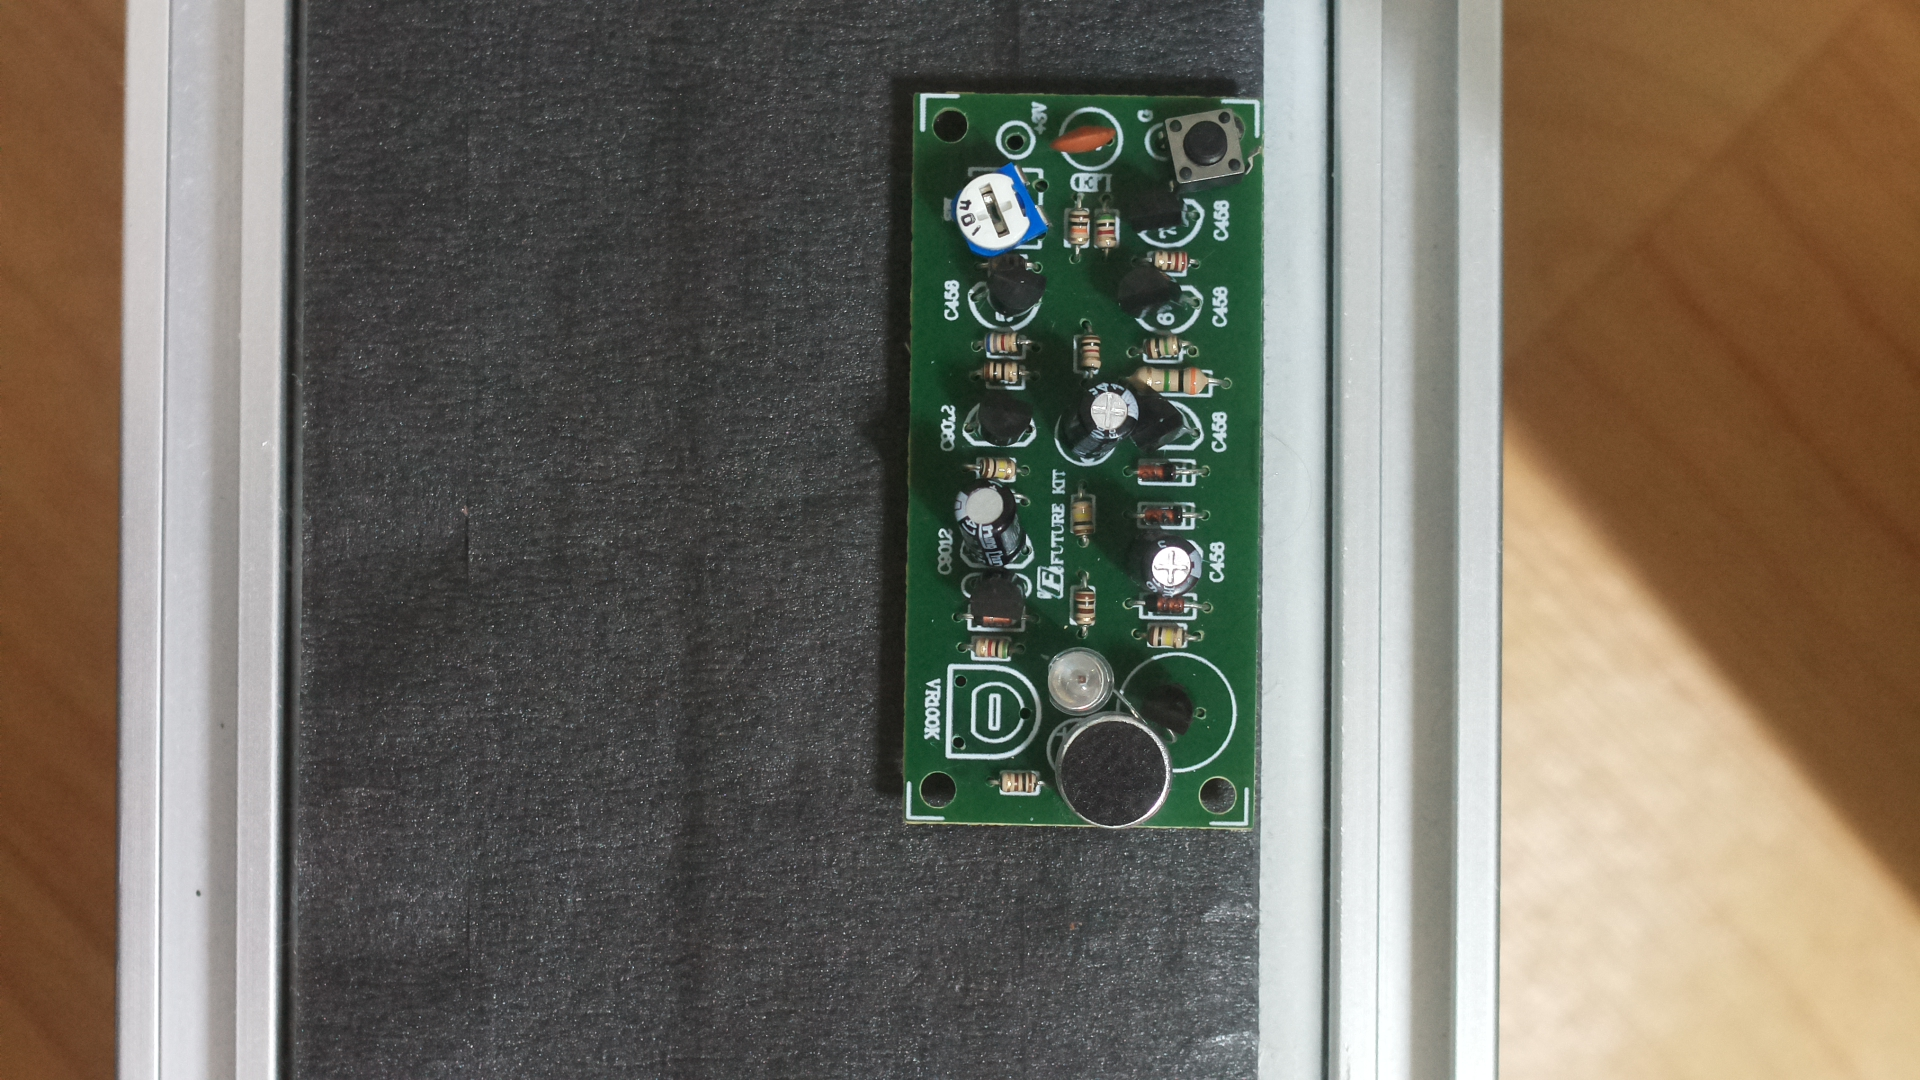A_Misordered: (902, 70, 1275, 847)
